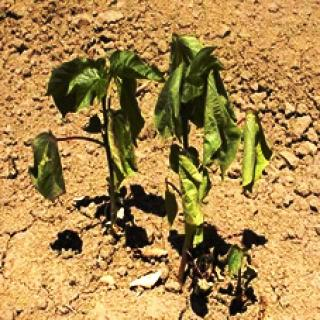wilt: (164, 32, 273, 232), (29, 59, 150, 211)
